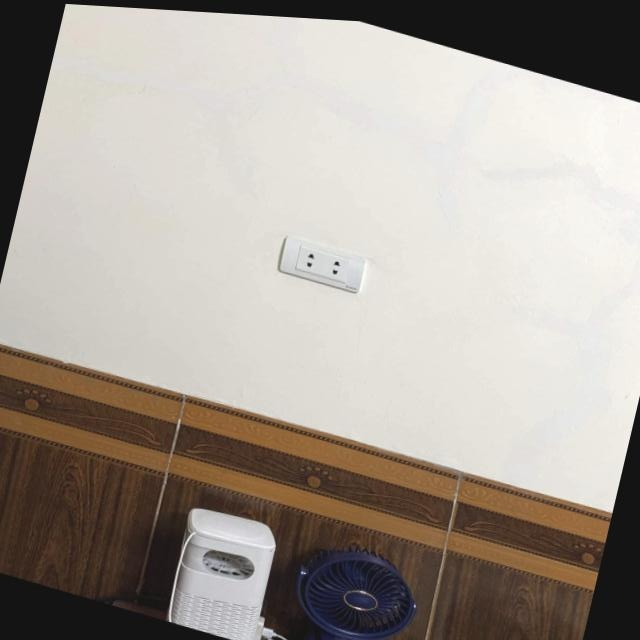outlet: (276, 235, 368, 297)
